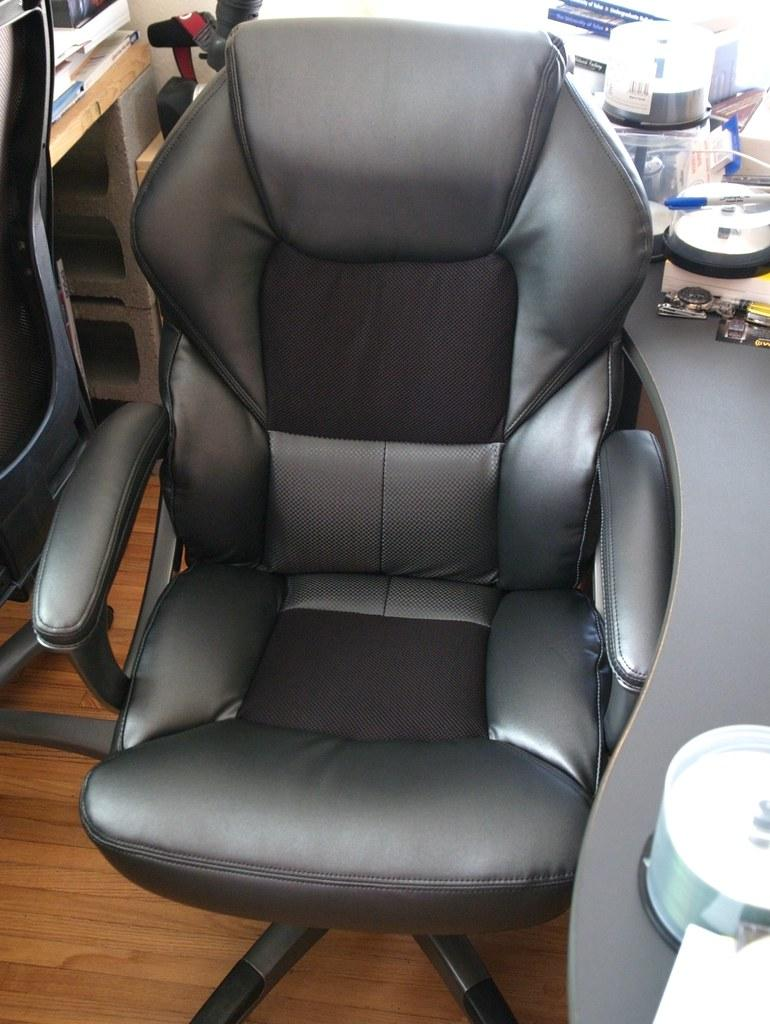chair: (78, 15, 676, 1023), (1, 1, 170, 760), (148, 1, 263, 141)
